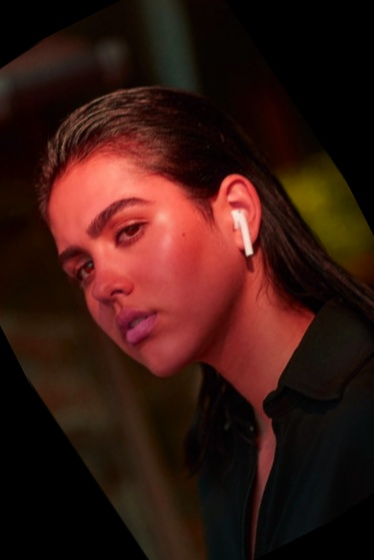earphone: (195, 162, 284, 260)
